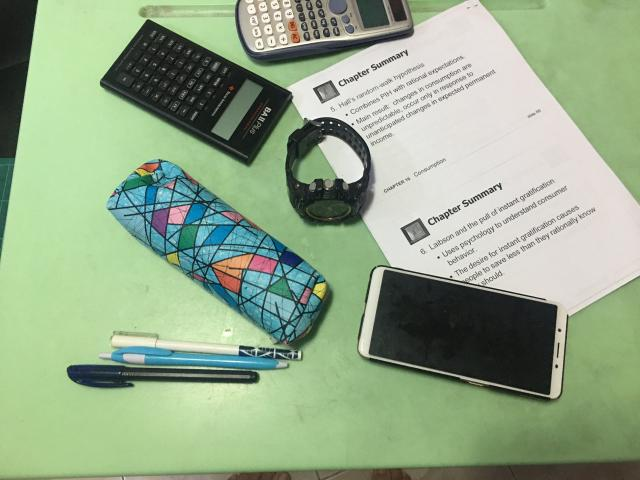Mobile phone: (355, 265, 566, 403)
Pen: (63, 332, 303, 392)
Watch: (285, 119, 375, 227)
paper: (288, 2, 640, 320)
